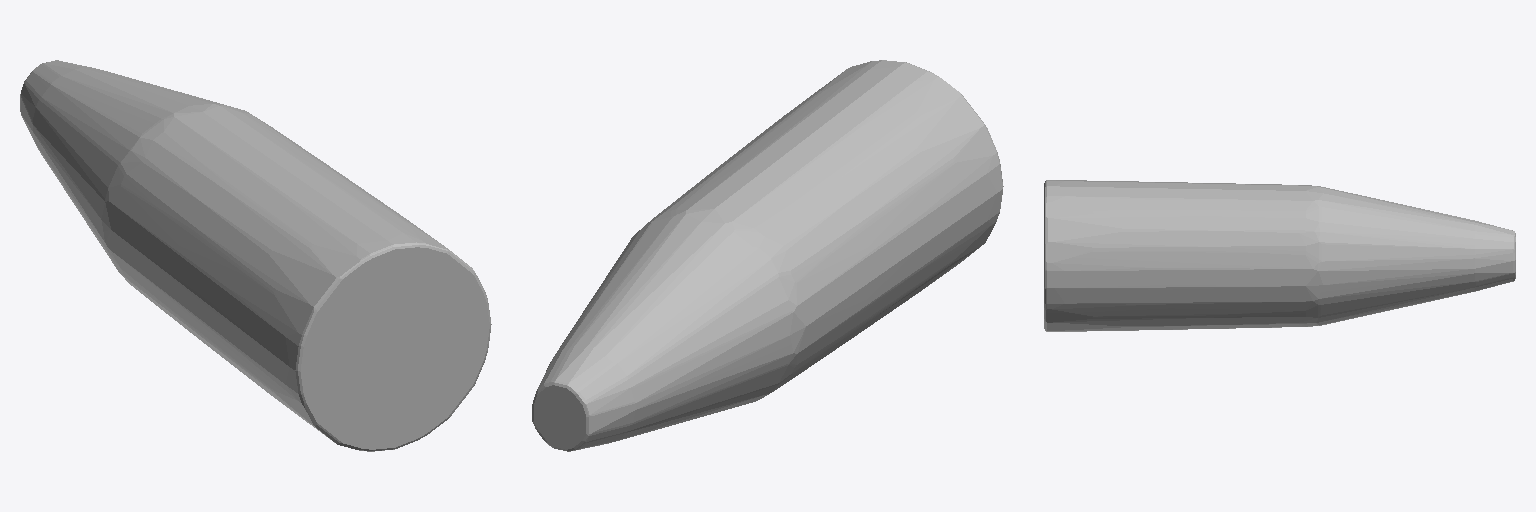
The robot description file, URDF, robot "root":
<?xml version="1.0"?>
<robot name="root">
  <link name="base_link">
    <visual>
      <origin xyz="0 0 0" rpy="0 0 0" />
      <geometry>
        <mesh filename="../meshes/unidex_core_bottle-e9371d3abbb3bb7265bca0cae1ecfff5_006.obj" scale="1.0000E+00 1.0000E+00 1.0000E+00" />
      </geometry>
      <material name="">
        <color rgba="7.50E-01 7.50E-01 7.50E-01 1" />
      </material>
    </visual>
    <collision>
      <origin xyz="0 0 0" rpy="0 0 0" />
      <geometry>
        <mesh filename="../meshes/unidex_core_bottle-e9371d3abbb3bb7265bca0cae1ecfff5_006.obj" scale="1.0000E+00 1.0000E+00 1.0000E+00" />
      </geometry>
    </collision>
  </link>
</robot>

--- What the picture shows (computed from the rendered views, not written in the file) ---
3 views of the same robot in one strip: view 1: azimuth 30°, elevation 25°; view 2: azimuth 150°, elevation 25°; view 3: azimuth 270°, elevation 25° (orthographic).
Robot: root — 1 links, 0 joints (none); root link base_link; default pose: all joints at 0.
Links seen in each view (by area): view 1: base_link; view 2: base_link; view 3: base_link.
Link boxes in pixels (left/top/right/bottom): base_link: left=20, top=60, right=491, bottom=451; base_link: left=532, top=60, right=1003, bottom=451; base_link: left=1044, top=180, right=1515, bottom=331.
Bounding box of the posed robot: 0.0366 × 0.1121 × 0.0366 m (x, y, z).
Meshes: 1 distinct files referenced, 1 mesh visuals loaded (1 OBJ).
